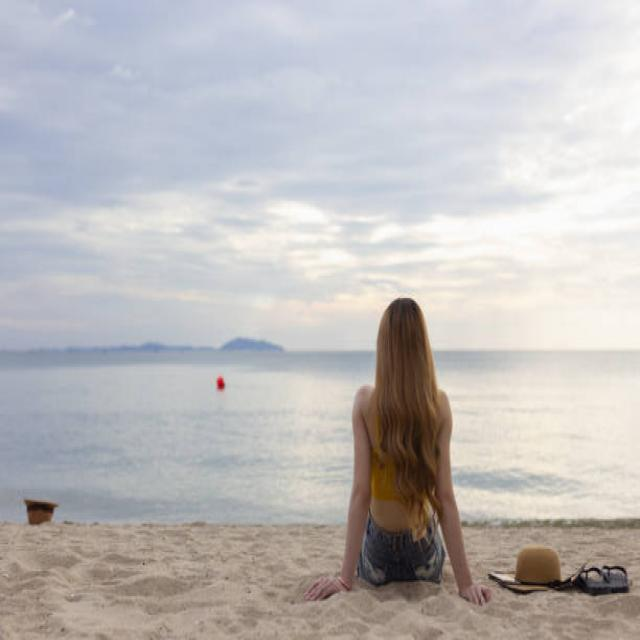no helmet: (368, 292, 444, 390)
